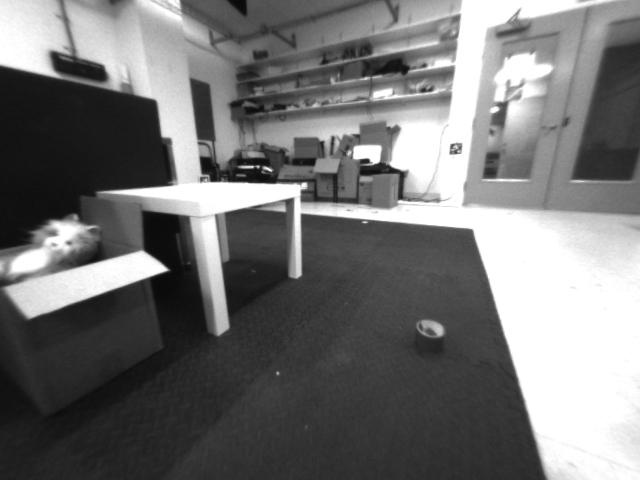dogtoy: (402, 301, 460, 363)
